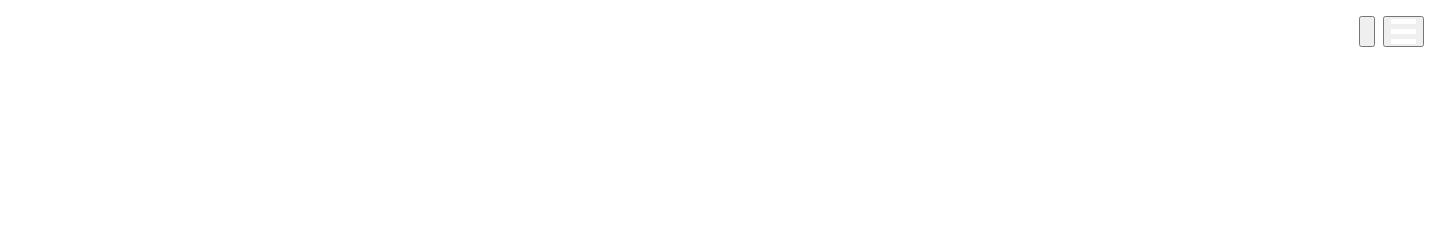
Test: Menu › opens menu on click
This screenshot has width=1440, height=250.
What coordinates should you click on to do the following:
click the button with class "toggleMenuButton"
I would click on:
 (1404, 32)
Its box is left=1383, top=16, right=1424, bottom=47.
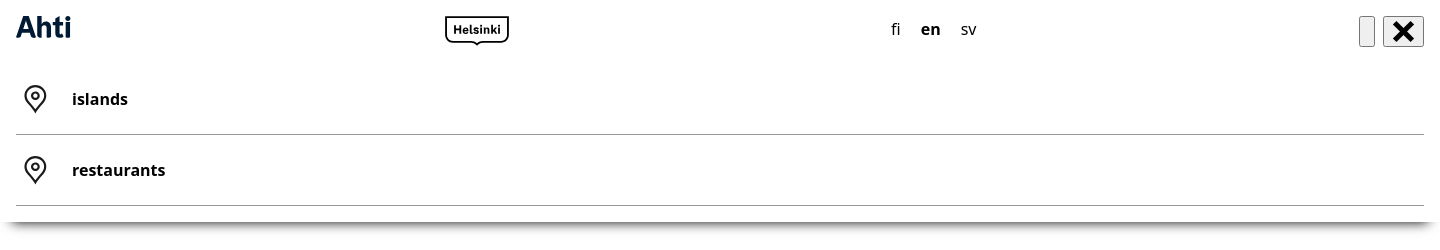
Check: the number of "NavDropdown" components is 2, box left=16, top=64, right=1424, bottom=135
